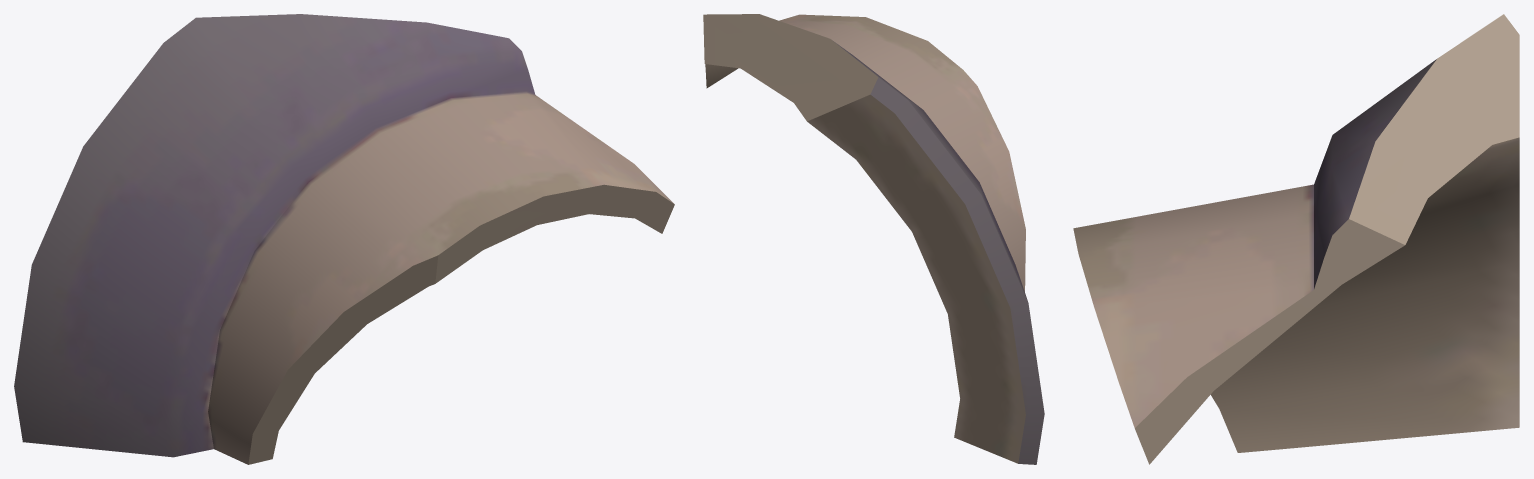
The model's file is Pot_Cell6.fbx.
The picture shows the model from 3 angles, left to right: view 1: azimuth 30°, elevation 25°; view 2: azimuth 150°, elevation 25°; view 3: azimuth 270°, elevation 25°; orthographic projection. The views are drawn at different scales.
Visible parts, largest first — view 1: jar1_cell.006; view 2: jar1_cell.006; view 3: jar1_cell.006.
Part boxes in pixels (x1,y1,x2,y2): jar1_cell.006: [14, 14, 674, 464]; jar1_cell.006: [703, 14, 1044, 464]; jar1_cell.006: [1073, 14, 1519, 464].
Size of the model in its own units: 136 by 97.13 by 79.97.
Materials: 1 (1 with a texture image).
